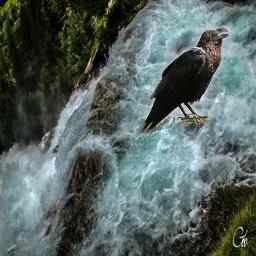Crow: (139, 26, 233, 133)
